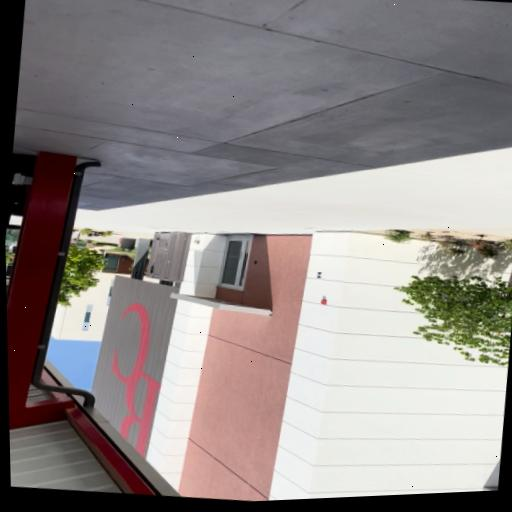target2: (317, 272, 322, 278)
